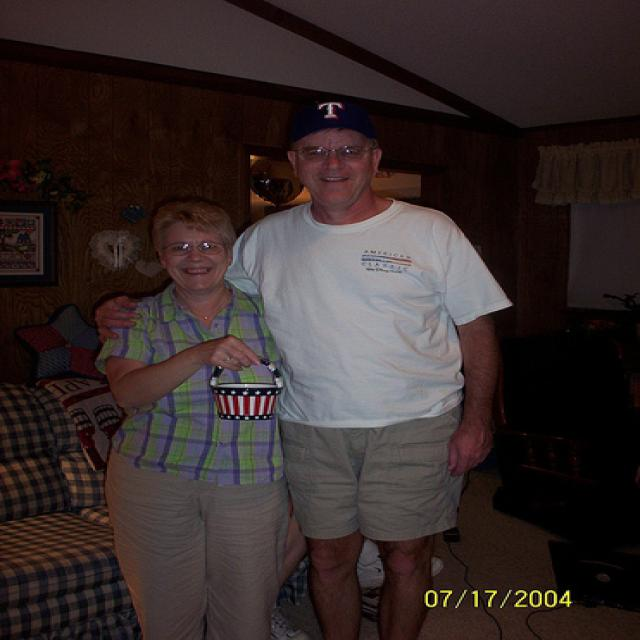People: (90, 157, 308, 640), (278, 104, 453, 640)
chair: (4, 383, 276, 640), (476, 319, 640, 602)
